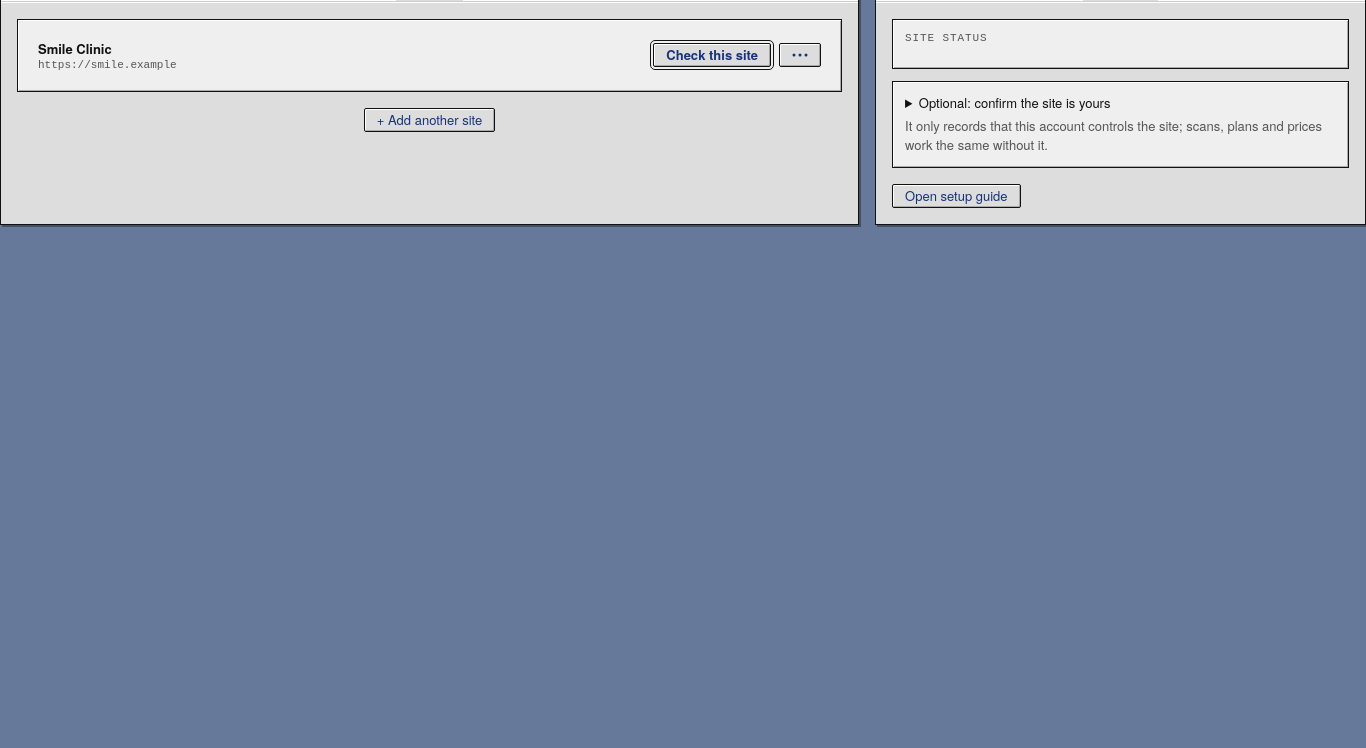
Scenario: the profile form competitors field (T7) › pre-fills the field from a saved profile when editing
Click the button named "Actions for Smile Clinic" at {"x": 800, "y": 55}, box 779,43 -> 821,67
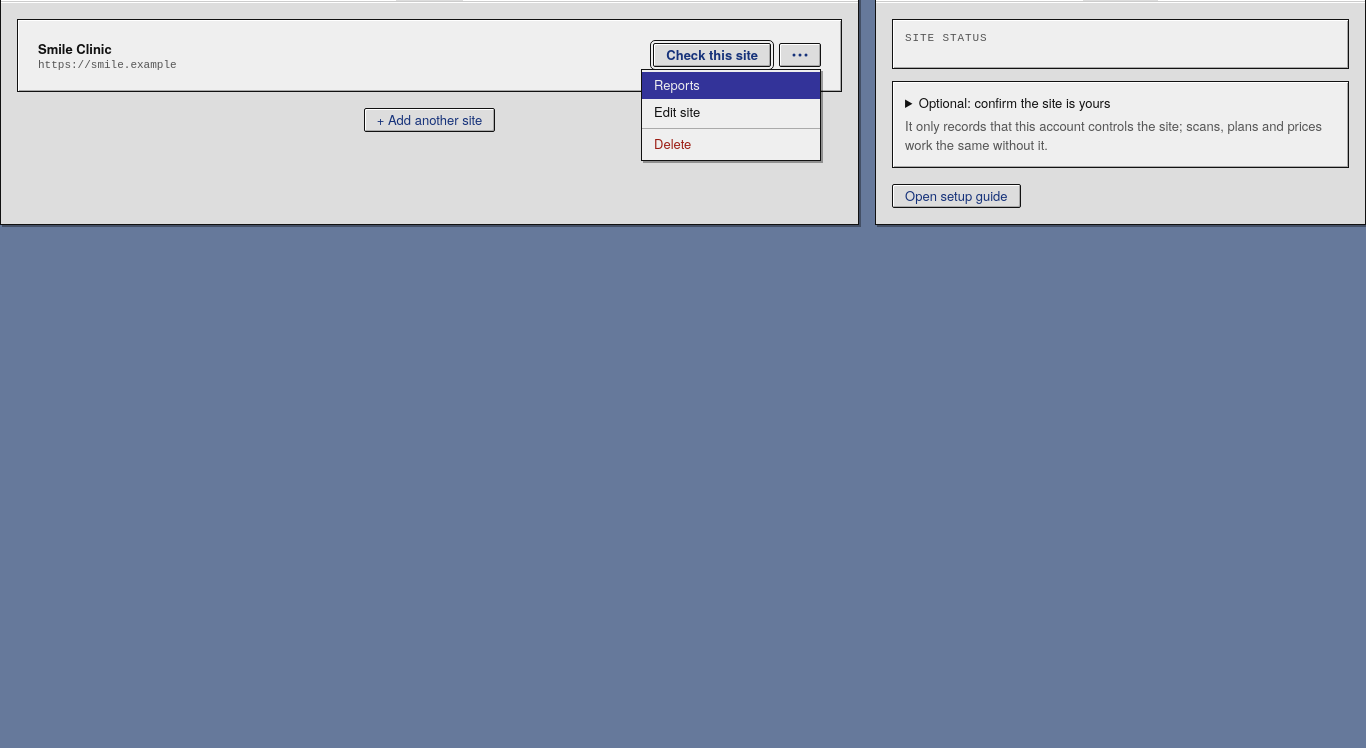
Click the menu item "Edit site" at {"x": 731, "y": 113}, box 642,99 -> 820,126
(page scrolled)
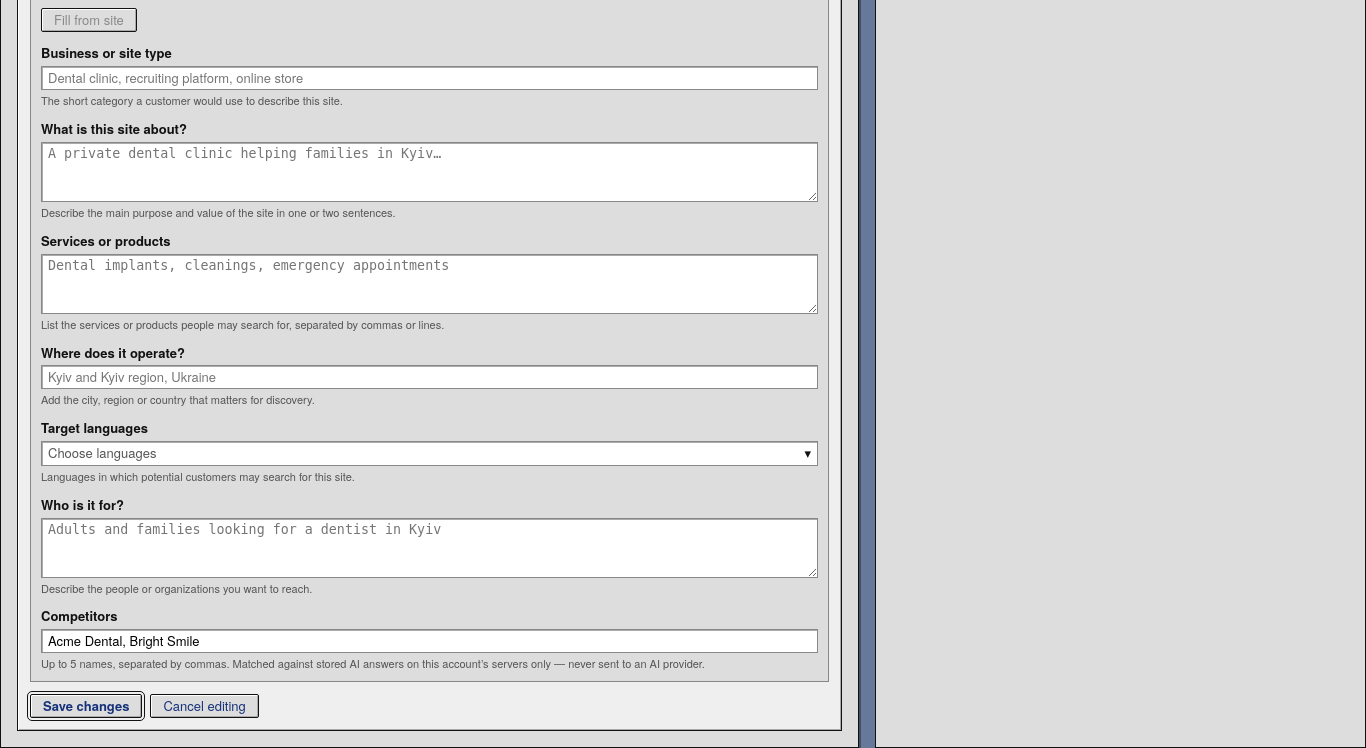
Result: the field with placeholder "Acme Dental, Bright Smile Clinic" holds "Acme Dental, Bright Smile" at 41,629 -> 818,653
